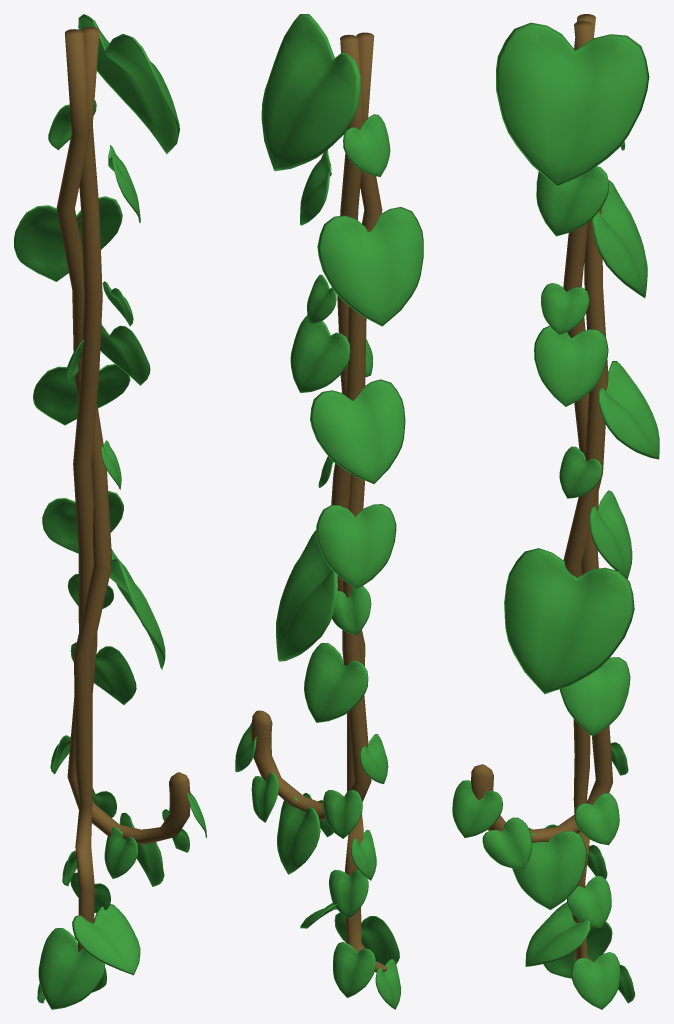
File: vines without flowers 2.glb
The picture shows the model from 3 angles, left to right: view 1: azimuth 30°, elevation 25°; view 2: azimuth 210°, elevation 25°; view 3: azimuth 270°, elevation 25°; orthographic projection. The views are drawn at different scales.
Visible parts, largest first — view 1: Sample 3_Pothos Leaf 3_0.002; view 2: Sample 3_Pothos Leaf 3_0.002; view 3: Sample 3_Pothos Leaf 3_0.002.
Part boxes in pixels (left/top/right/bottom): Sample 3_Pothos Leaf 3_0.002: left=14, top=14, right=206, bottom=1009; Sample 3_Pothos Leaf 3_0.002: left=235, top=14, right=423, bottom=1009; Sample 3_Pothos Leaf 3_0.002: left=452, top=14, right=659, bottom=1009.
Bounding box in the file's own units: 1.2 × 9.27 × 1.74.
